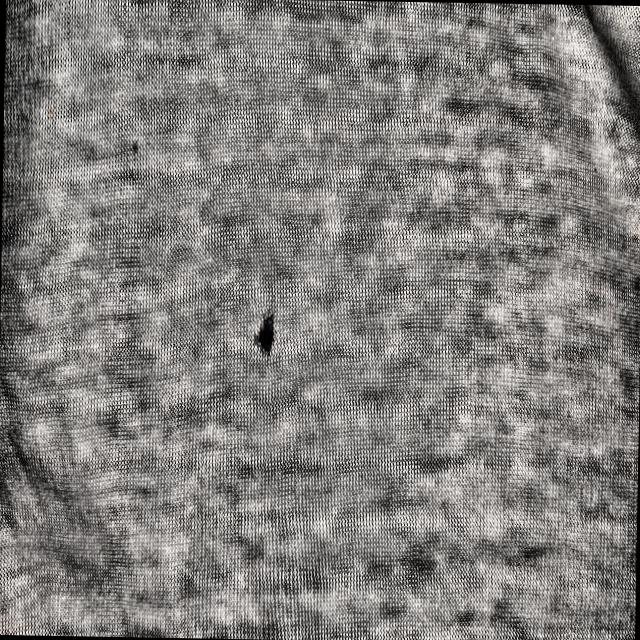cut: (252, 298, 282, 371)
